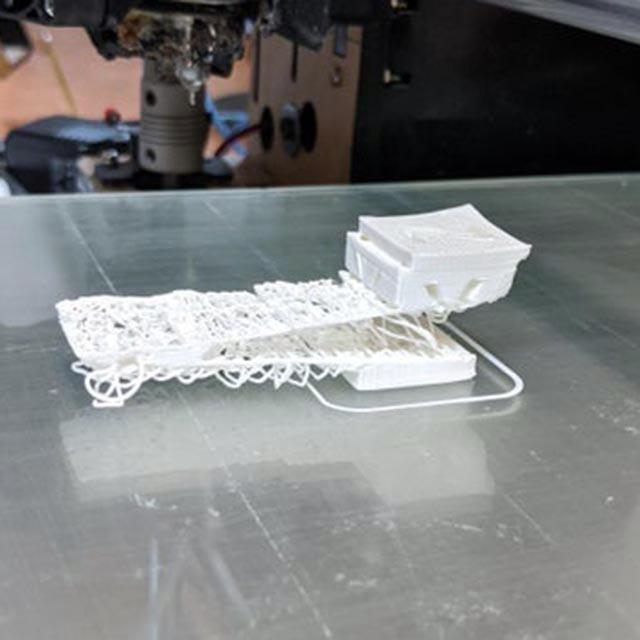Spaghetti: (54, 268, 444, 412)
